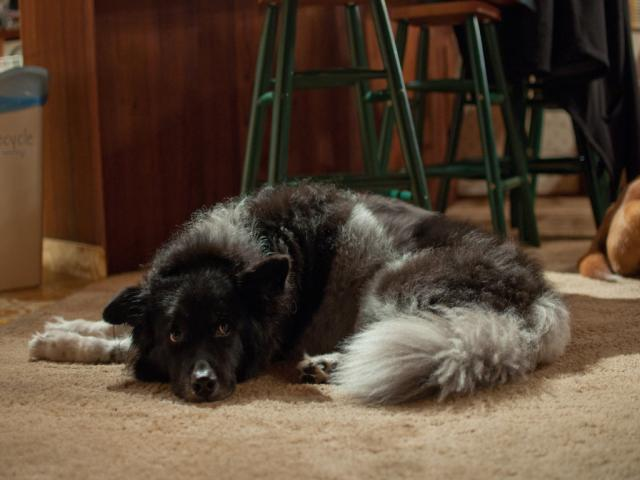Dog: (26, 180, 572, 409), (574, 177, 640, 283)
